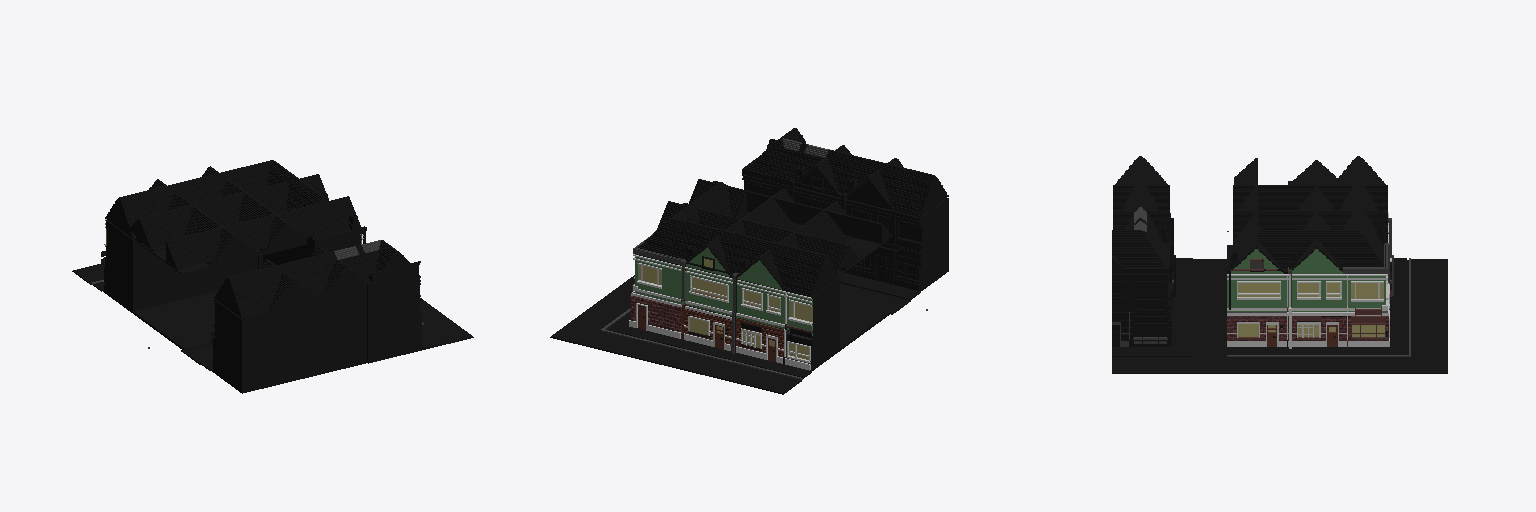
3 renders of one model, left to right at view 1: azimuth 30°, elevation 25°; view 2: azimuth 150°, elevation 25°; view 3: azimuth 270°, elevation 25°, orthographic.
Visible parts, largest first — view 1: object 1; view 2: object 1; view 3: object 1.
Part boxes in pixels (x1,y1,x2,y2): object 1: (72, 160, 473, 393); object 1: (550, 128, 948, 394); object 1: (1112, 156, 1447, 373).
Bounding box in the file's own units: 23.5 × 8.9 × 25.6.
Materials: 1 (1 with a texture image).